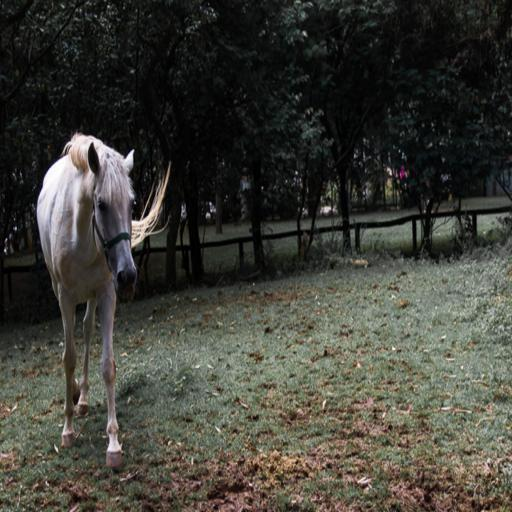horse: (34, 132, 173, 469)
